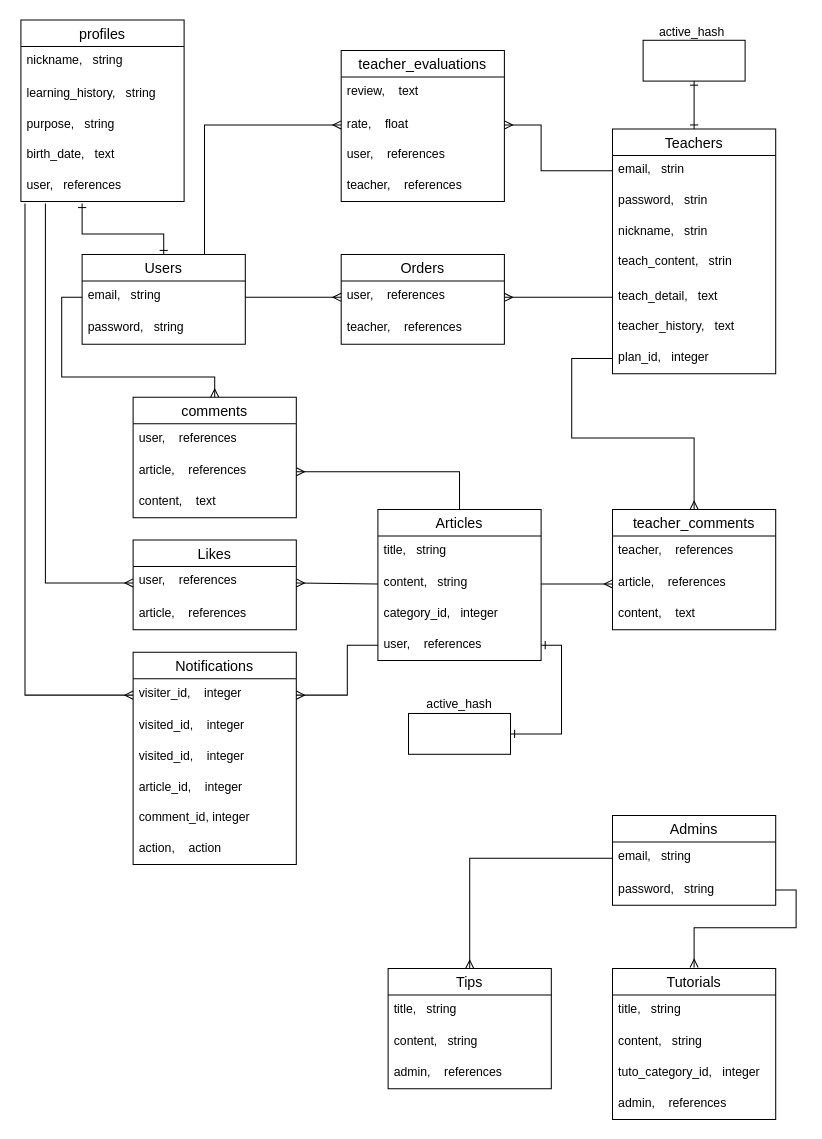
This 822x1139 diagram has some shape labels left out. Here are the shapes that lost their labels. From the top down, the centre of each, then its label:
At point 693,60: "Plan".
At point 459,733: "Category".
